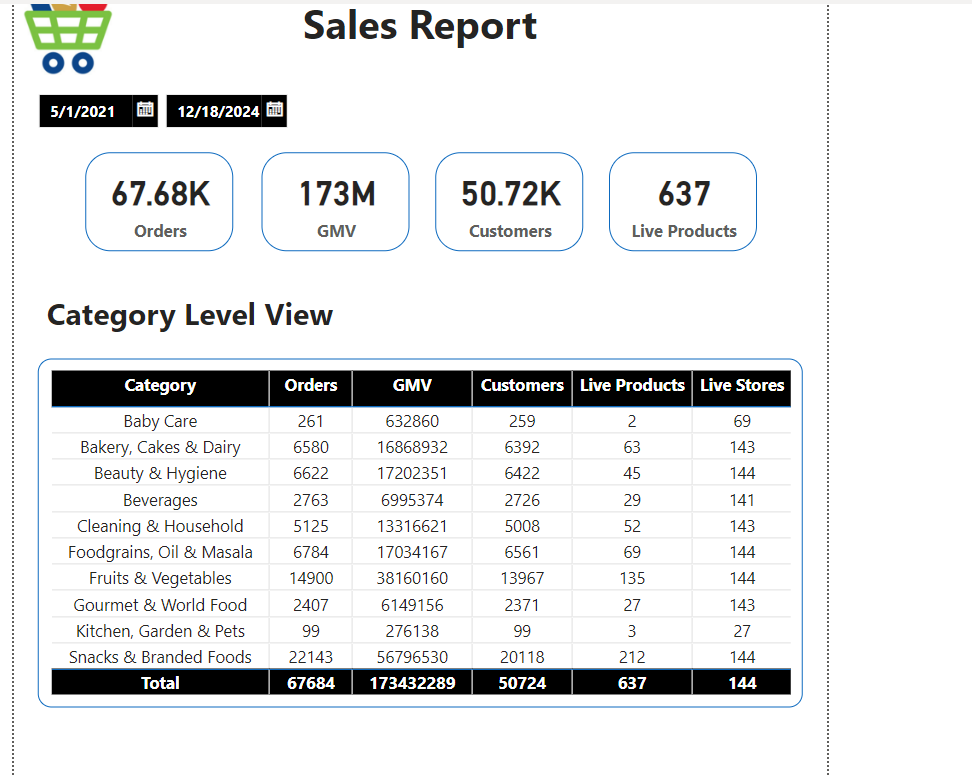

This screenshot's page, from the dashboard's own definition file:
{"tool":"powerbi","page":{"name":"Summary View","canvas":[650,1000],"ordinal":0},"visuals":[{"type":"textbox","box":[176,15,297,53],"z":0},{"type":"slicer","fields":{"Values":["order_details_v1.txn_date"]},"box":[7,88,227,45],"z":1000},{"type":"image","box":[0,0,87,88],"z":2000},{"type":"card","fields":{"Values":["Count(order_details_v1.order_id)"]},"box":[56.7,144.7,118,79],"z":3000},{"type":"card","fields":{"Values":["Sum(order_details_v1.txn_amount)"]},"box":[197.7,144.7,118,79],"z":4000},{"type":"card","fields":{"Values":["Count(order_details_v1.customer_id)"]},"box":[336.7,144.7,118,79],"z":5000},{"type":"card","fields":{"Values":["Count(order_details_v1.product_id)"]},"box":[476,145,118,79],"z":6000},{"type":"tableEx","fields":{"Values":["producthierarchy.category","order_details_v1.order_id","Sum(order_details_v1.txn_amount)","order_details_v1.customer_id","order_details_v1.product_id","order_details_v1.store_id"]},"box":[19,310,612,279],"z":7000},{"type":"textbox","box":[21,253,306,46],"z":8000}]}

Visuals, with their boxes on the page's 650x1000 design canvas (x1, y1, x2, y2). These are canvas units, not pixel positions in the 972x775 screenshot, which may show the page scaled, cropped or inside an application window:
textbox: x1=176, y1=15, x2=473, y2=68
slicer - order_details_v1.txn_date: x1=7, y1=88, x2=234, y2=133
image: x1=0, y1=0, x2=87, y2=88
card - Count(order_details_v1.order_id): x1=57, y1=145, x2=175, y2=224
card - Sum(order_details_v1.txn_amount): x1=198, y1=145, x2=316, y2=224
card - Count(order_details_v1.customer_id): x1=337, y1=145, x2=455, y2=224
card - Count(order_details_v1.product_id): x1=476, y1=145, x2=594, y2=224
tableEx - producthierarchy.category x order_details_v1.order_id: x1=19, y1=310, x2=631, y2=589
textbox: x1=21, y1=253, x2=327, y2=299
